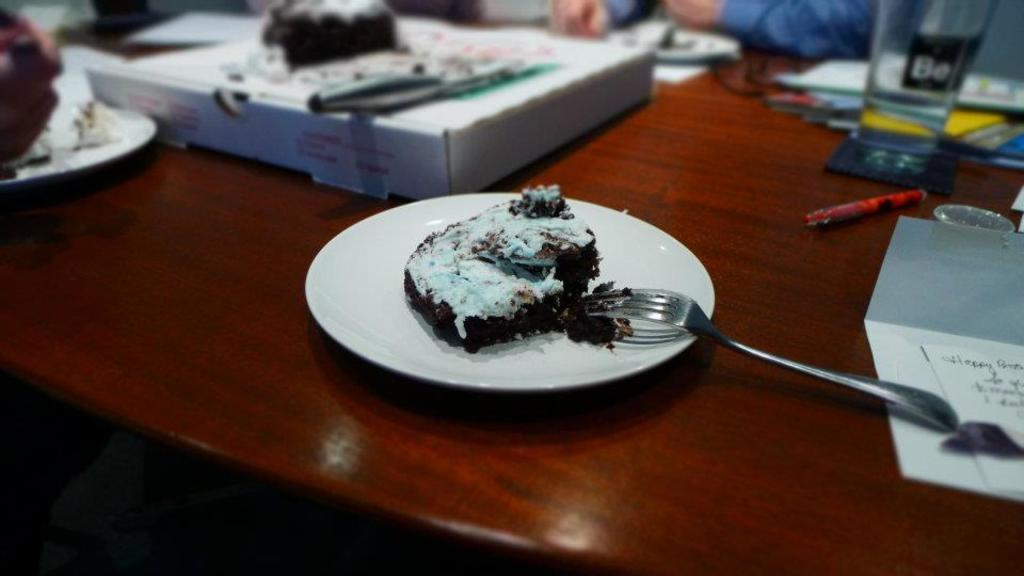pen: (305, 66, 519, 117), (795, 188, 937, 227)
